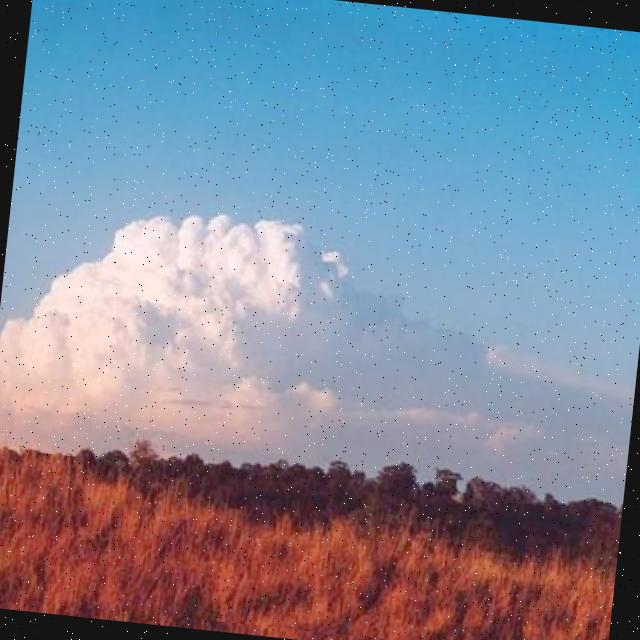Cb: (1, 179, 514, 473)
